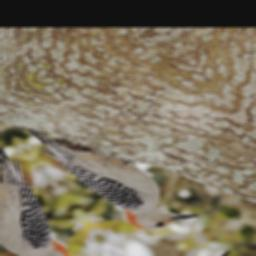Woodpecker: (10, 90, 207, 256)
